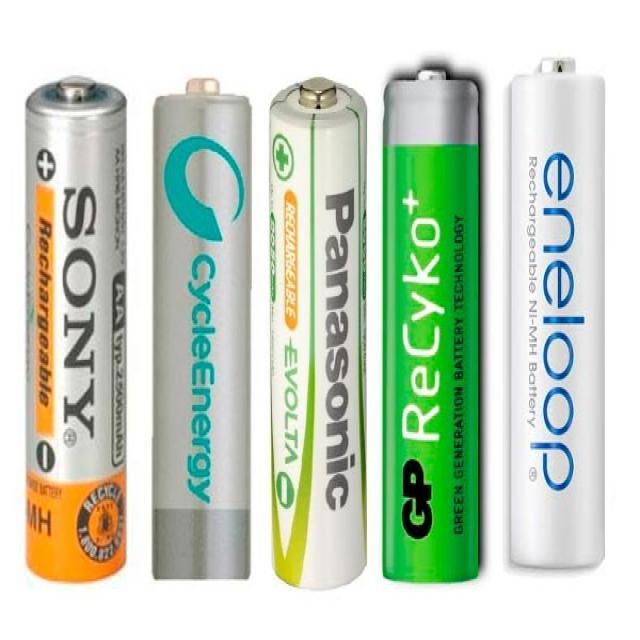battery: (27, 71, 128, 590), (384, 63, 484, 582), (268, 79, 366, 592), (510, 56, 606, 564), (153, 80, 250, 579)
